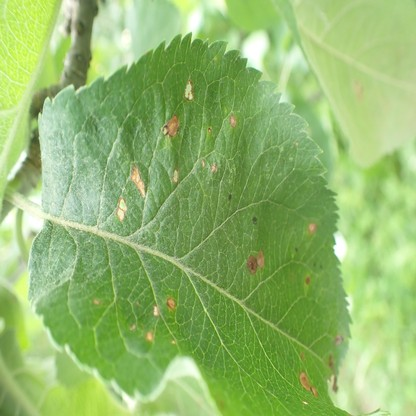frogeye: (131, 165, 146, 199), (300, 369, 316, 398), (247, 249, 264, 274), (161, 115, 179, 137), (116, 198, 127, 222), (183, 80, 196, 99), (172, 168, 180, 182), (308, 222, 316, 234), (167, 299, 175, 308), (334, 336, 342, 345), (210, 163, 217, 173), (230, 115, 236, 126), (200, 160, 206, 168), (93, 299, 100, 305), (305, 277, 310, 285), (147, 334, 152, 341), (208, 127, 212, 135)
